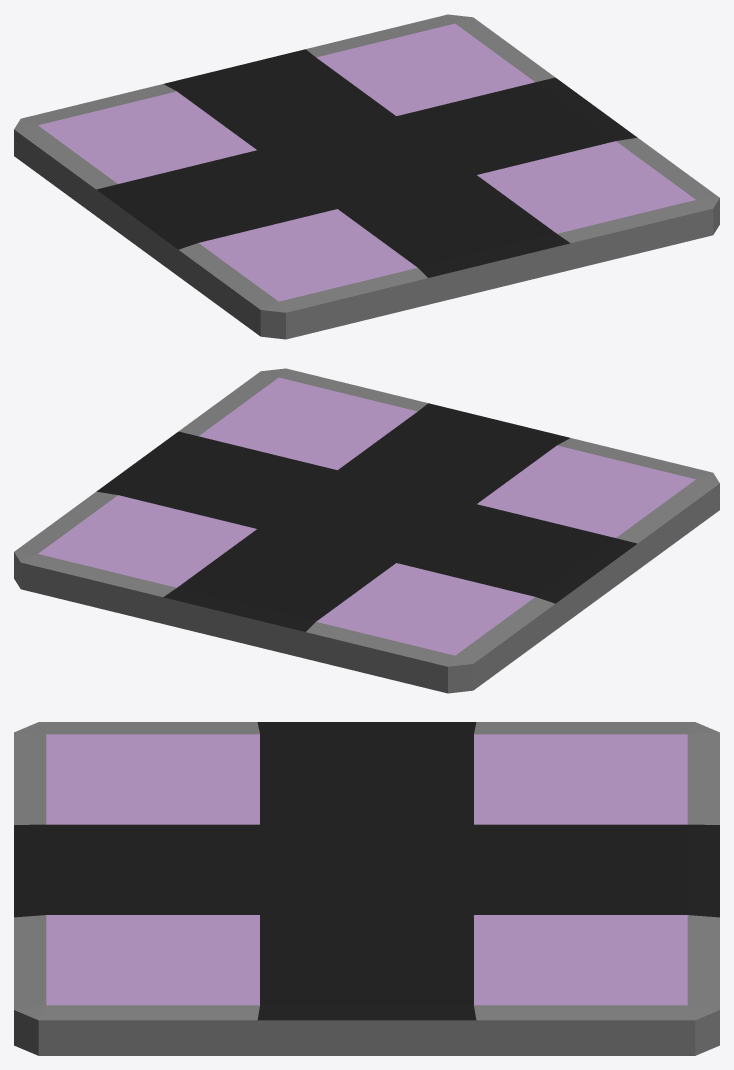
Rendered from streetcross.fbx.
The picture shows the model from 3 angles, top to bottom: view 1: azimuth 30°, elevation 25°; view 2: azimuth 150°, elevation 25°; view 3: azimuth 270°, elevation 25°; orthographic projection. The views are drawn at different scales.
Visible parts, largest first — view 1: StreetCross; view 2: StreetCross; view 3: StreetCross.
Boxes of the visible parts, x1=… form: StreetCross: x1=14, y1=14, x2=719, y2=339; StreetCross: x1=14, y1=368, x2=719, y2=693; StreetCross: x1=14, y1=722, x2=719, y2=1055.
Size of the model in its own units: 100 by 5.98 by 100.
